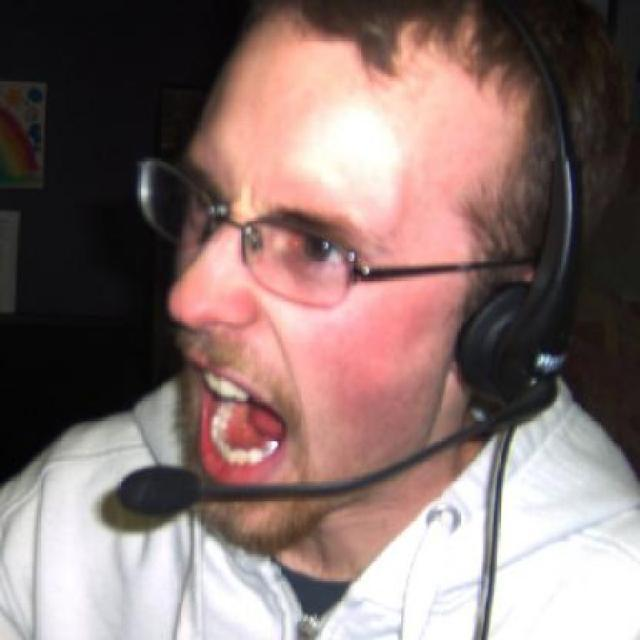earphone: (447, 0, 593, 480)
